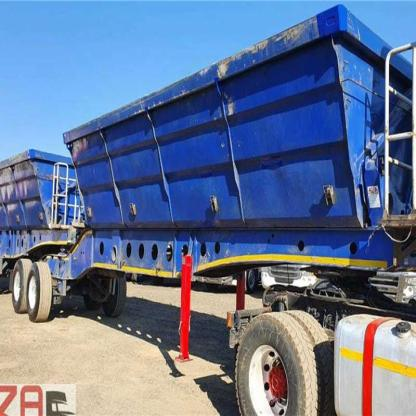dump_truck: (7, 6, 415, 416)
